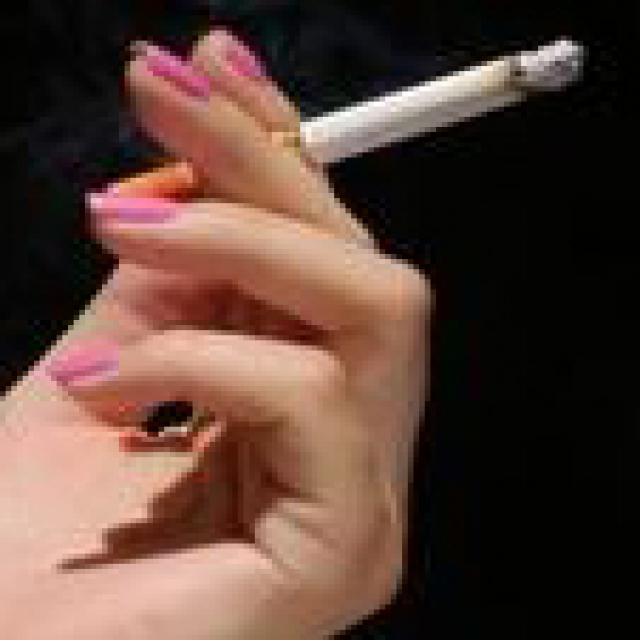smoking: (105, 36, 584, 212)
